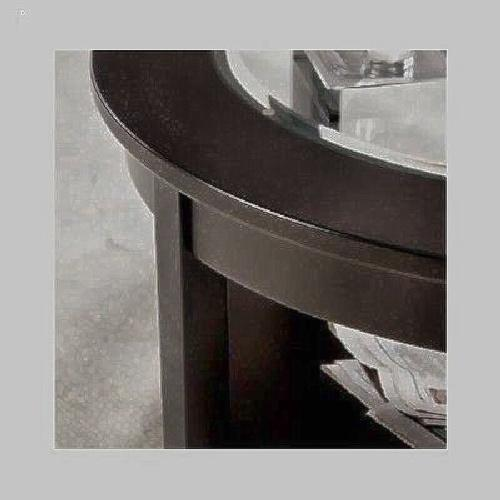table: (87, 49, 466, 407)
